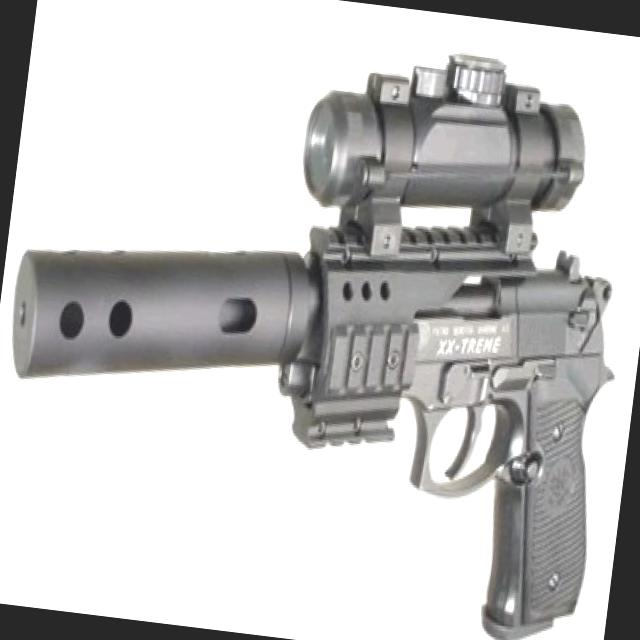handgun: (256, 223, 619, 639)
